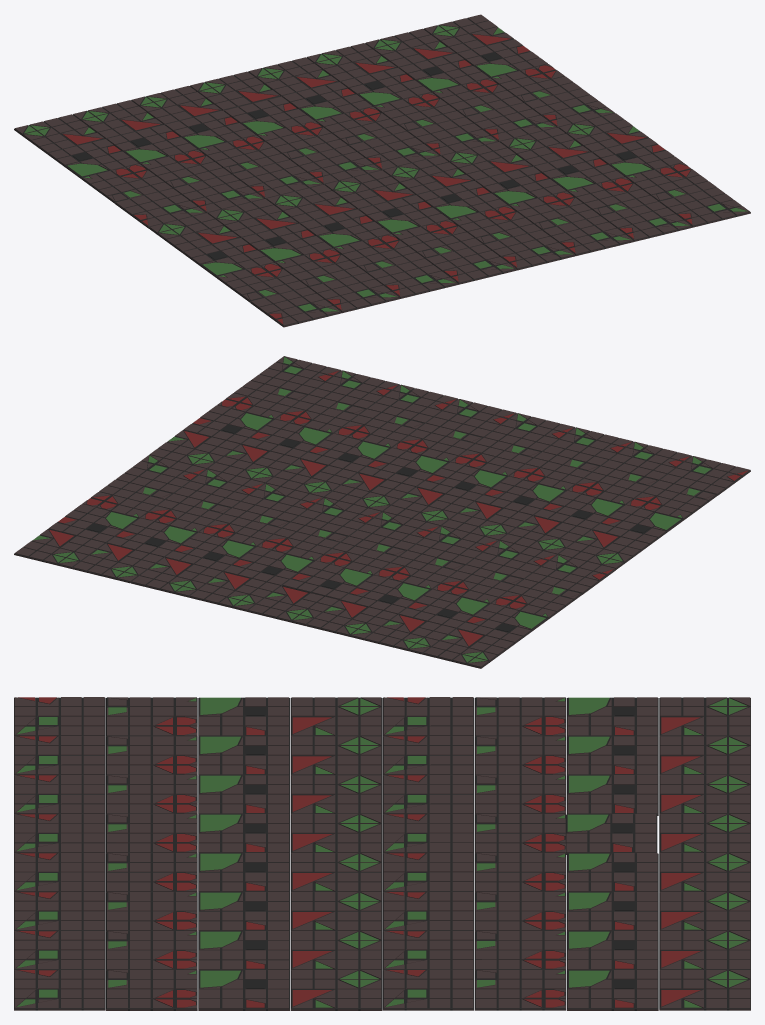
The model's file is floor_1.3.fbx.
3 renders of one model, top to bottom at view 1: azimuth 30°, elevation 25°; view 2: azimuth 150°, elevation 25°; view 3: azimuth 270°, elevation 25°, orthographic. The views are drawn at different scales.
Parts seen in each view (by area): view 1: pCube68; view 2: pCube68; view 3: pCube68.
Part boxes in pixels (bbox=[...]): pCube68: bbox=[14, 14, 750, 327]; pCube68: bbox=[14, 356, 750, 668]; pCube68: bbox=[14, 697, 750, 1010].
Bounding box in the file's own units: 47.98 × 0.1827 × 47.97.
Materials: 1 (1 with a texture image).
